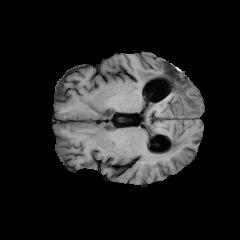glioma: (128, 64, 200, 151)
